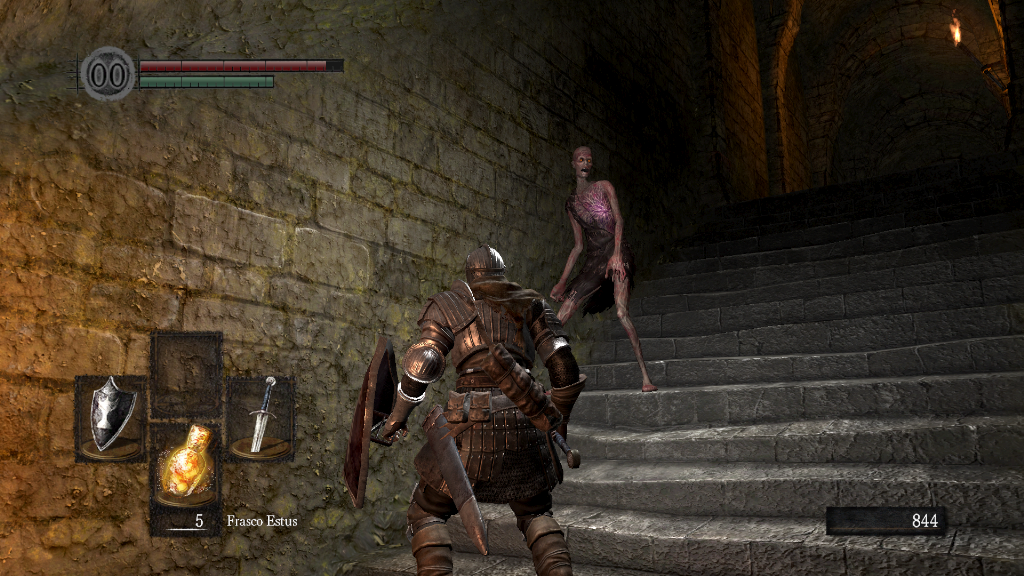health: (138, 58, 343, 71)
hollow: (550, 146, 660, 397)
humanity: (80, 45, 136, 102)
player: (341, 244, 588, 576)
souls: (825, 506, 945, 536)
stamina: (138, 74, 274, 88)
